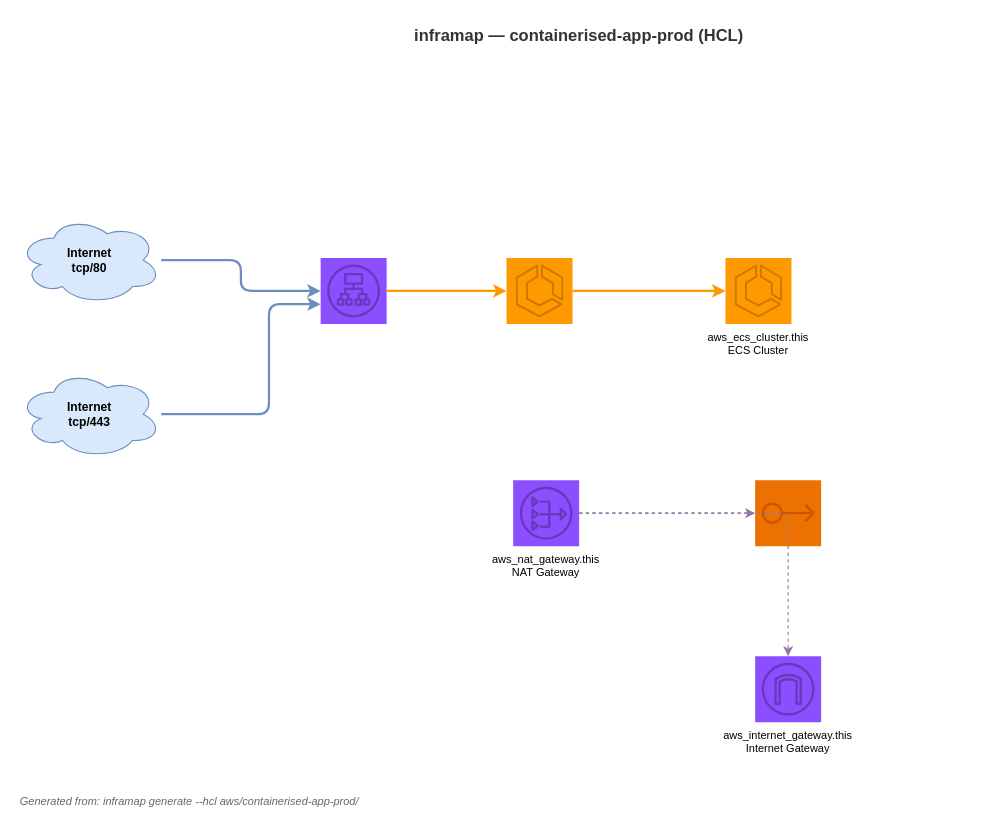
Some shapes in this 982 by 828 pixel diagram are drawn without their labels. Each missing label, with the box of its shape:
aws_ecs_service.this ECS Service: (505, 257, 573, 324)
aws_eip.nat Elastic IP: (754, 479, 821, 546)
aws_lb.this Application Load Balancer: (320, 257, 387, 324)
